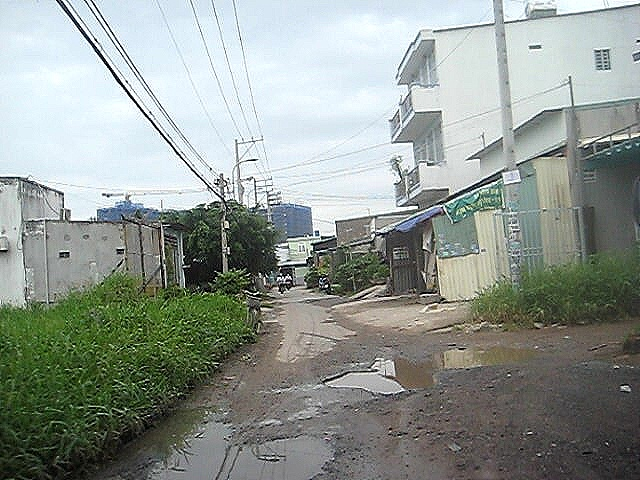hole: (111, 402, 347, 480), (320, 348, 436, 398), (439, 340, 555, 370)
